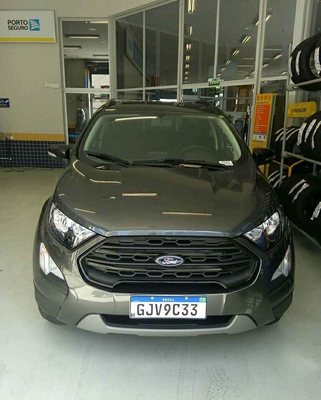Frontal Veiculo: (31, 105, 296, 339)
